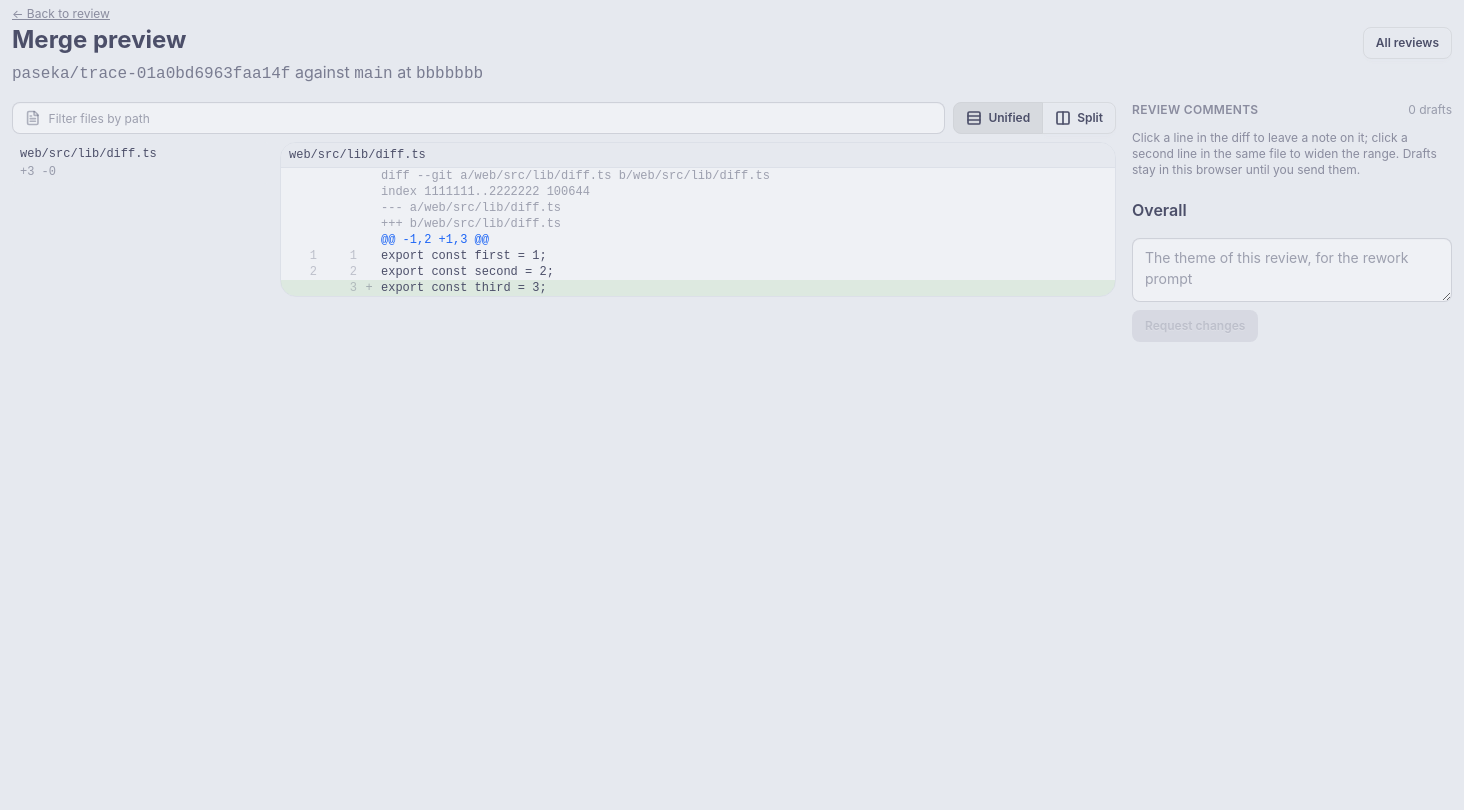
Scenario: merge preview › reads a context line on both sides when split, and can note the old one
The image size is (1464, 810).
expect the text "export const first = 1;" is shown once: met, box [377,248,1115,264]
Click the button "Split" at (1079, 118), box [1042,102,1116,134]
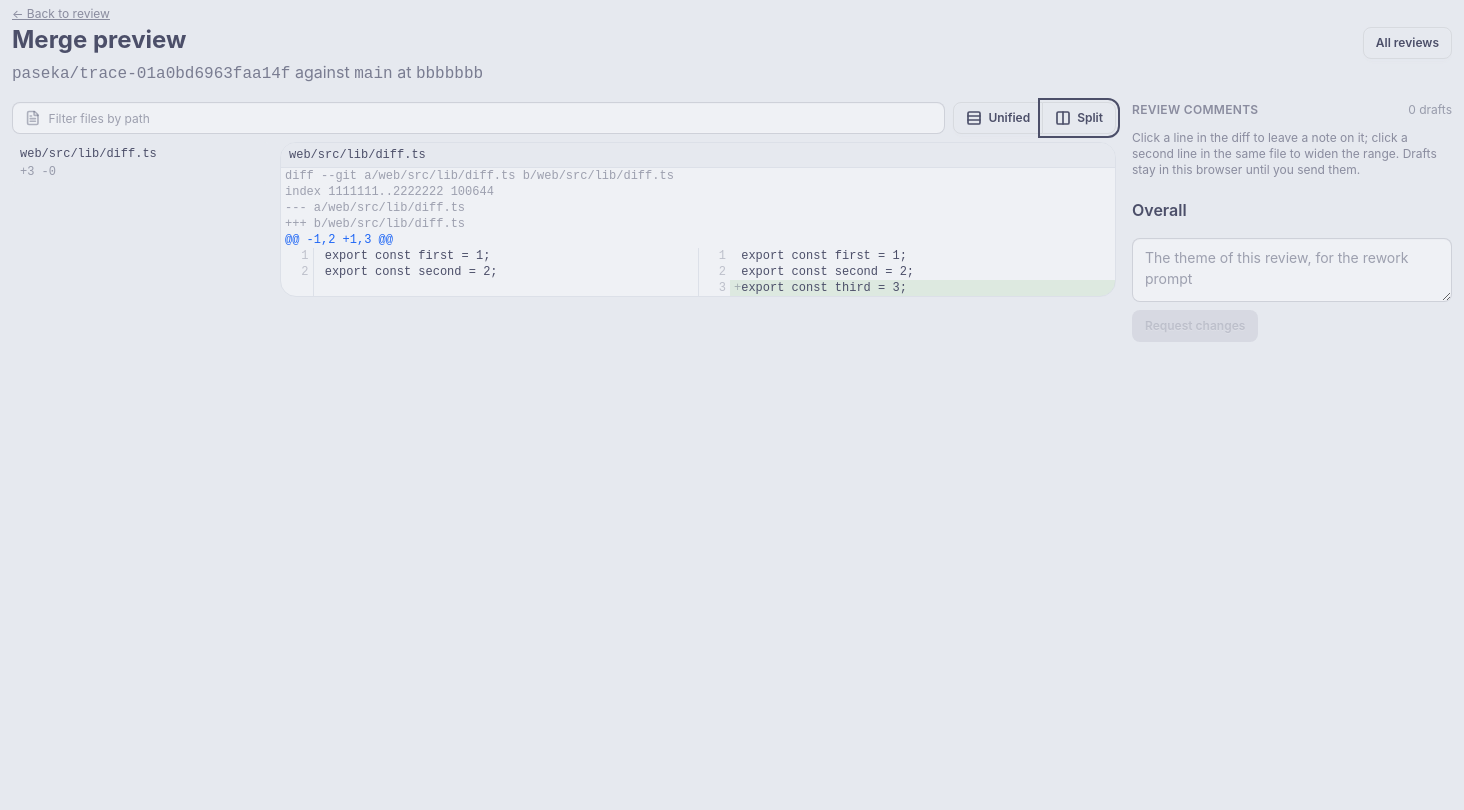
expect the text "export const first = 1;" is shown 2 times: met
Click the 1st text "export const first = 1;" at (408, 256), box [313,248,698,264]
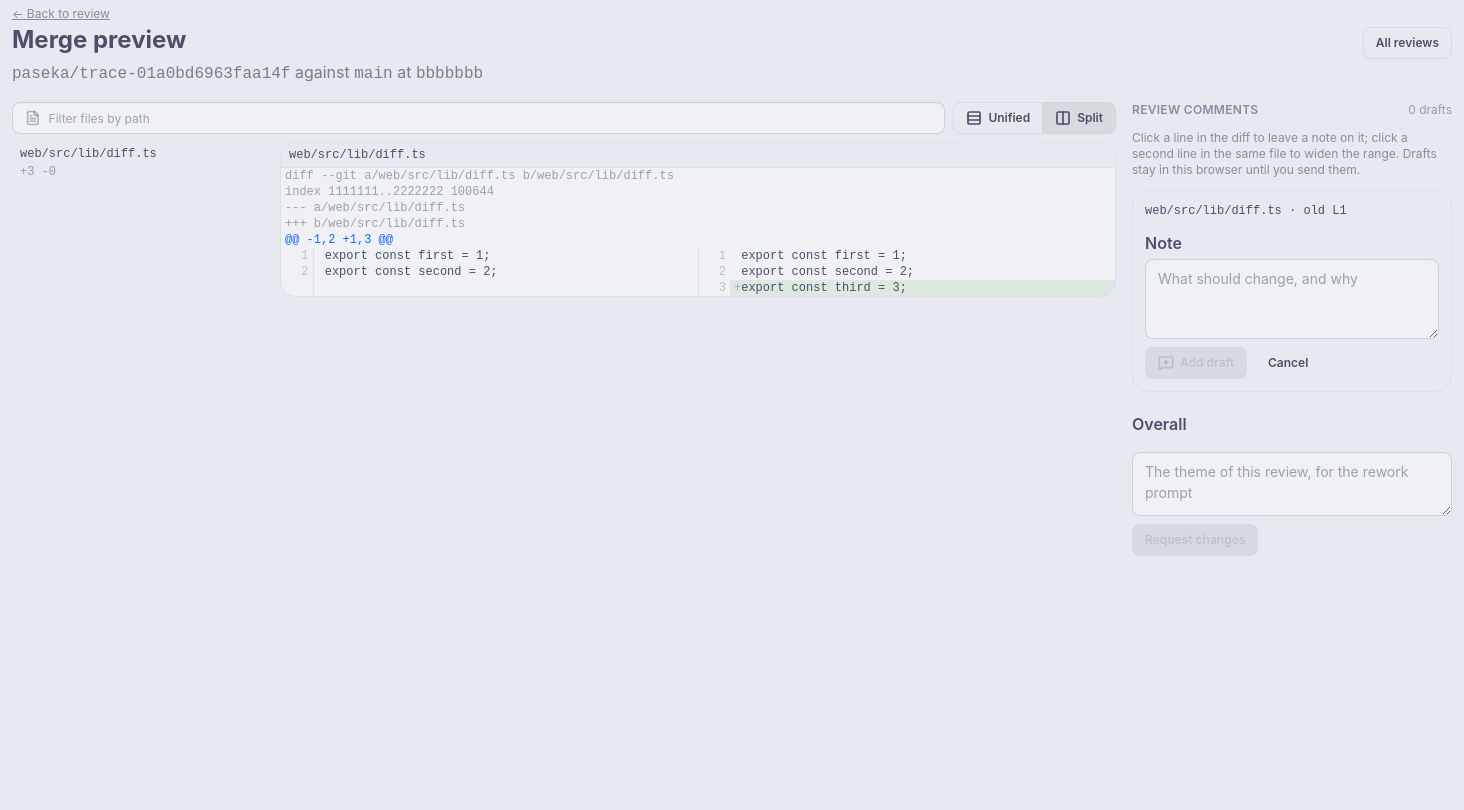
expect the text "web/src/lib/diff.ts · old L1" is shown: met, box [1145,204,1347,218]
Click the 2nd text "export const first = 1;" at (824, 256), box [730,248,1115,264]
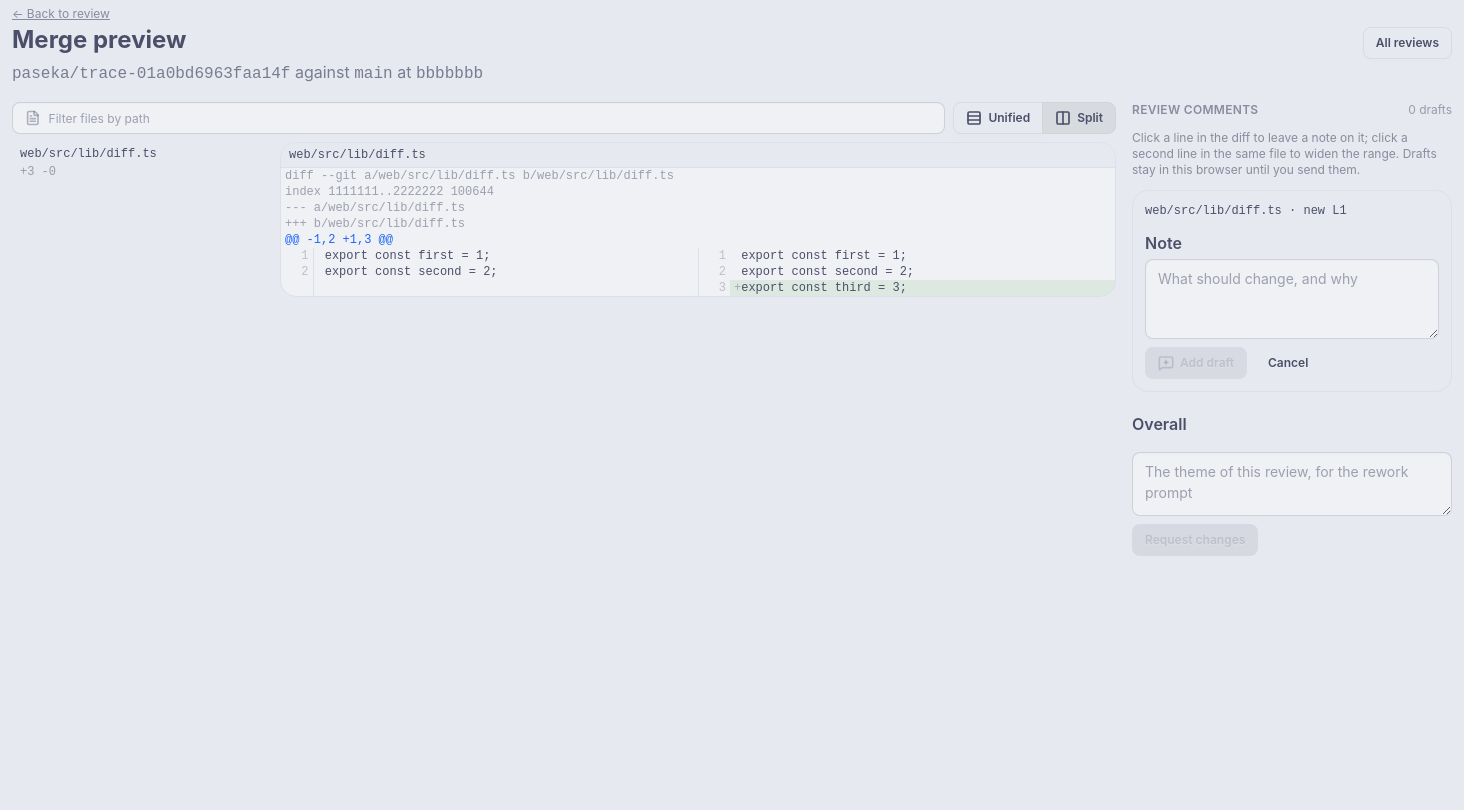
expect the text "web/src/lib/diff.ts · new L1" is shown: met, box [1145,204,1347,218]
